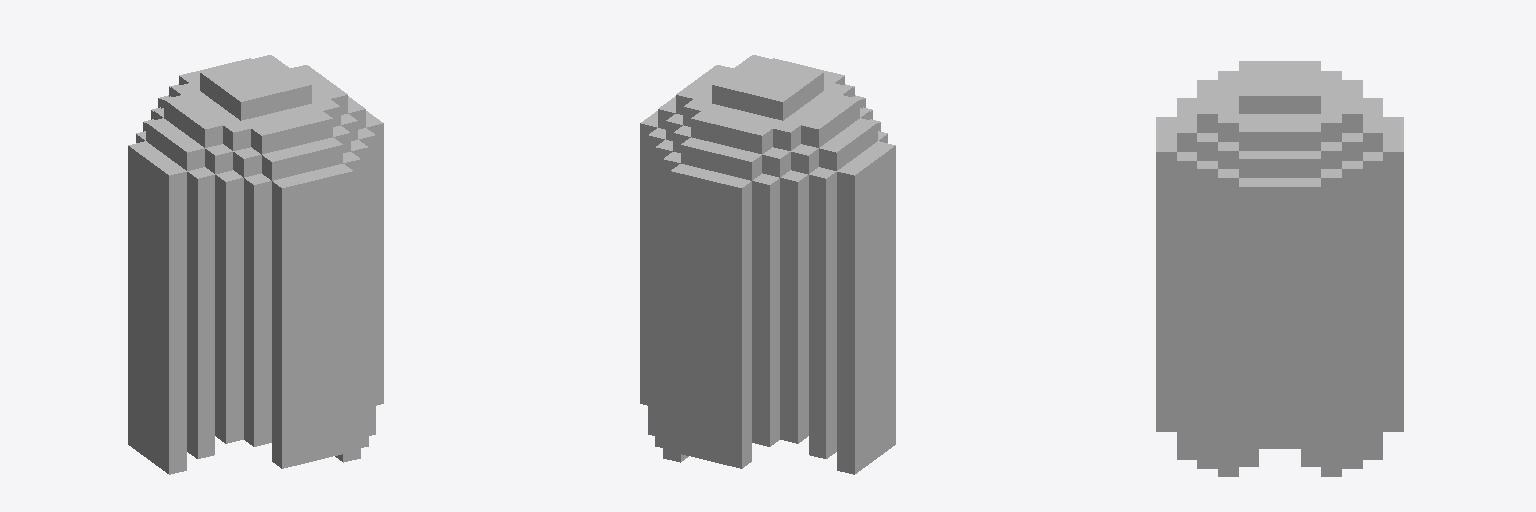
The model's file is GhostBody3.obj.
3 renders of one model, left to right at view 1: azimuth 30°, elevation 25°; view 2: azimuth 150°, elevation 25°; view 3: azimuth 270°, elevation 25°, orthographic.
Parts seen in each view (by area): view 1: object 1; view 2: object 1; view 3: object 1.
Part boxes in pixels (x1,y1,x2,y2): object 1: (128, 55, 383, 474); object 1: (640, 55, 895, 474); object 1: (1156, 61, 1403, 476).
Bounding box in the file's own units: 1.2 × 1.9 × 1.2.